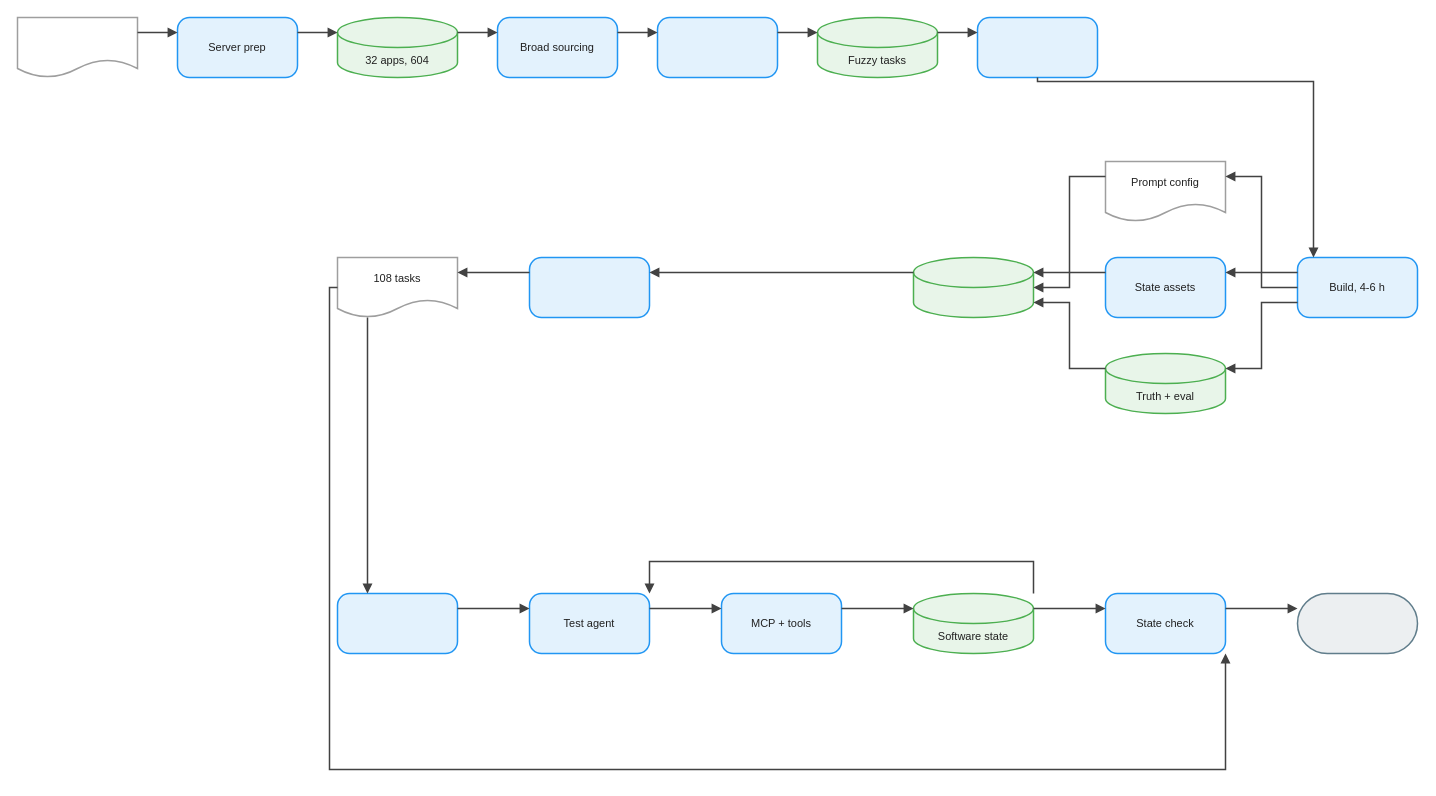
This 1436x796 diagram has some shape labels left out. The shapes that lost their labels are listed below. From the top down, each one's centre as x and y in pixels, then its label:
At point (77, 47): "App + MCP".
At point (717, 47): "Target source".
At point (1037, 47): "Multiweek QC".
At point (589, 287): "Author QC".
At point (973, 287): "Task bundle".
At point (397, 623): "Container init".
At point (1357, 623): "Pass metrics".
